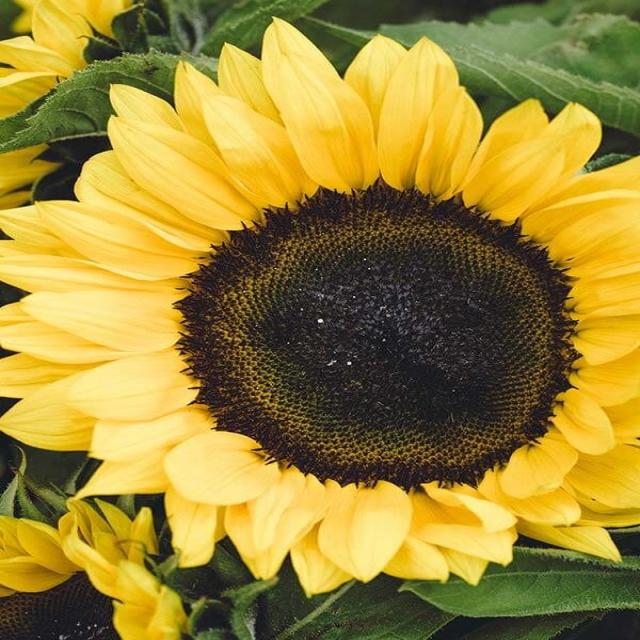sunflower: (7, 11, 640, 602)
